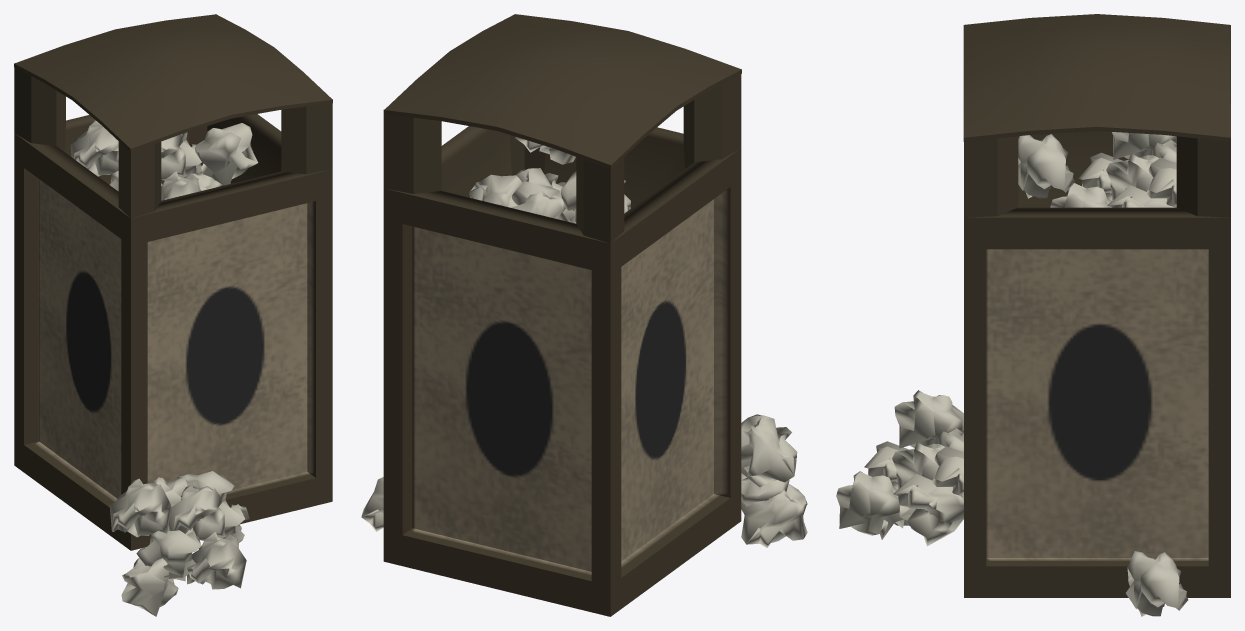
The model's file is garbageCan.fbx.
3 views of the same model, side by side, from view 1: azimuth 30°, elevation 25°; view 2: azimuth 150°, elevation 25°; view 3: azimuth 270°, elevation 25° (orthographic). The views are drawn at different scales.
Parts seen in each view (by area): view 1: pCube13, pCube14, pCube36, pCube29, pCube42, pCube35, pCube37, pCube43, pCube28, pCube17, pCube20, pCube39 (+3 smaller); view 2: pCube13, pCube14, pCube36, pCube37, pCube15, pCube16, pCube43, pCube41, pCube17, pCube28; view 3: pCube13, pCube14, pCube39, pCube42, pCube41, pCube29, pCube36, pCube35, pCube17, pCube28, pCube40, pCube16 (+4 smaller).
Boxes of the visible parts, left/top/right/bottom form: pCube13: left=14, top=14, right=332, bottom=550; pCube14: left=14, top=14, right=332, bottom=152; pCube36: left=109, top=478, right=171, bottom=537; pCube29: left=195, top=123, right=258, bottom=185; pCube42: left=187, top=532, right=246, bottom=589; pCube35: left=168, top=484, right=224, bottom=540; pCube37: left=121, top=557, right=178, bottom=616; pCube43: left=136, top=530, right=201, bottom=581; pCube28: left=70, top=120, right=118, bottom=176; pCube17: left=161, top=134, right=185, bottom=180; pCube20: left=161, top=171, right=201, bottom=200; pCube39: left=192, top=500, right=249, bottom=545; pCube13: left=383, top=14, right=741, bottom=616; pCube14: left=385, top=14, right=741, bottom=168; pCube36: left=741, top=414, right=797, bottom=486; pCube37: left=741, top=484, right=807, bottom=547; pCube15: left=511, top=181, right=570, bottom=254; pCube16: left=468, top=174, right=522, bottom=207; pCube43: left=741, top=473, right=789, bottom=506; pCube41: left=361, top=477, right=383, bottom=531; pCube17: left=515, top=168, right=574, bottom=219; pCube28: left=560, top=171, right=630, bottom=222; pCube13: left=964, top=25, right=1230, bottom=597; pCube14: left=963, top=14, right=1230, bottom=141; pCube39: left=893, top=474, right=963, bottom=546; pCube42: left=836, top=471, right=903, bottom=539; pCube41: left=1125, top=551, right=1188, bottom=616; pCube29: left=1018, top=133, right=1074, bottom=198; pCube36: left=894, top=390, right=963, bottom=448; pCube35: left=892, top=442, right=947, bottom=488; pCube17: left=1106, top=153, right=1159, bottom=200; pCube28: left=1111, top=132, right=1176, bottom=159; pCube40: left=932, top=446, right=963, bottom=519; pCube16: left=1146, top=158, right=1176, bottom=207.
Bounding box in the file's own units: 16.78 × 26.98 × 17.86.
Materials: 2 (1 with a texture image).
